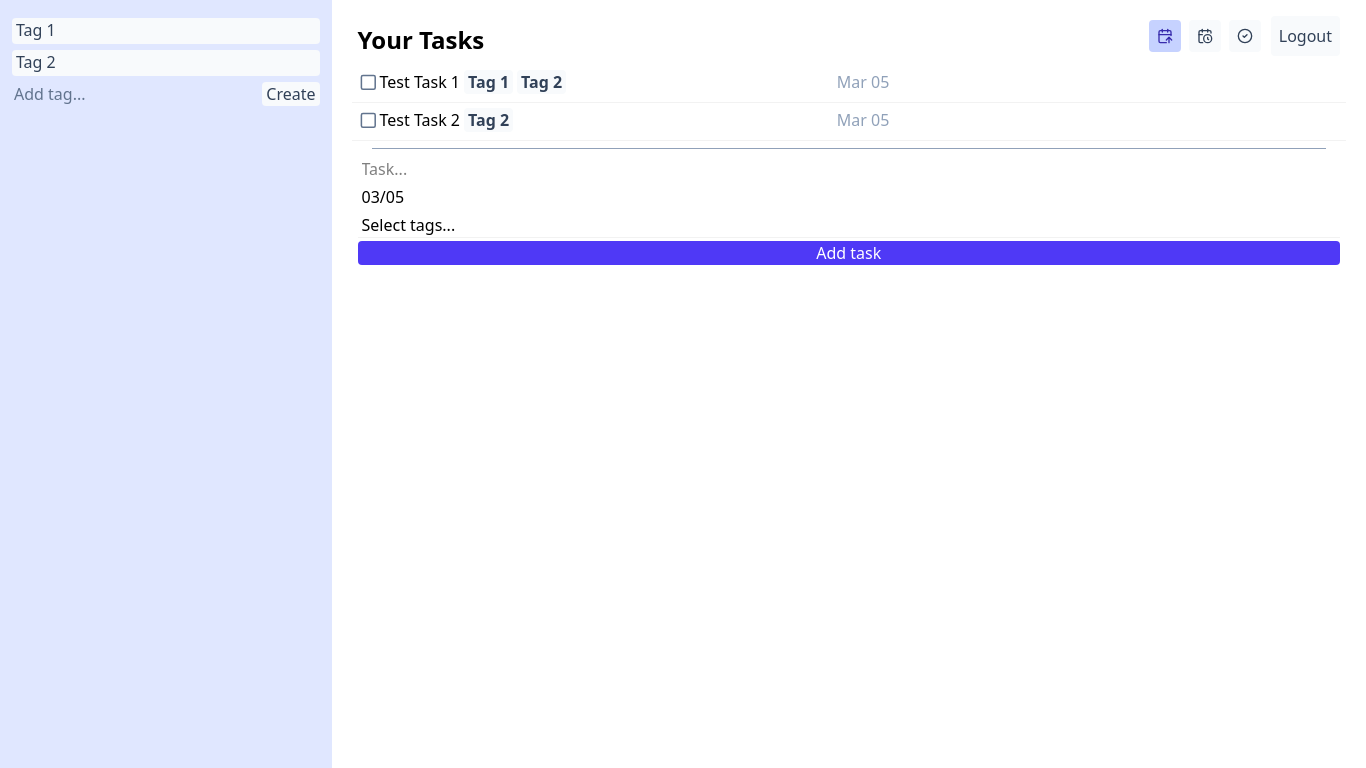
Test: Tag integration tests › Create a tag
Note: create a new tag
Type "New Tag" into the field with placeholder "Add tag..." at (131, 94), box [12, 82, 250, 106]
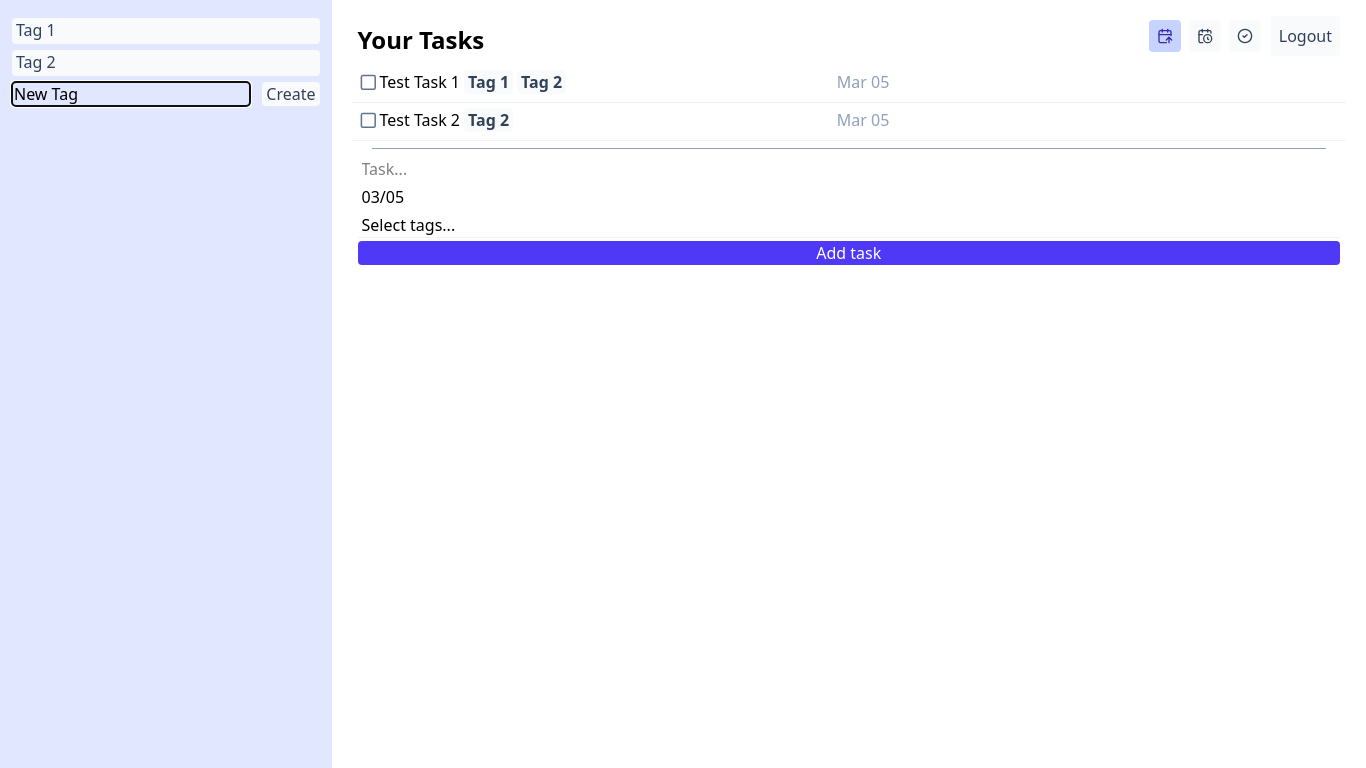
Click the button "Create" at (291, 94), box [262, 82, 320, 106]
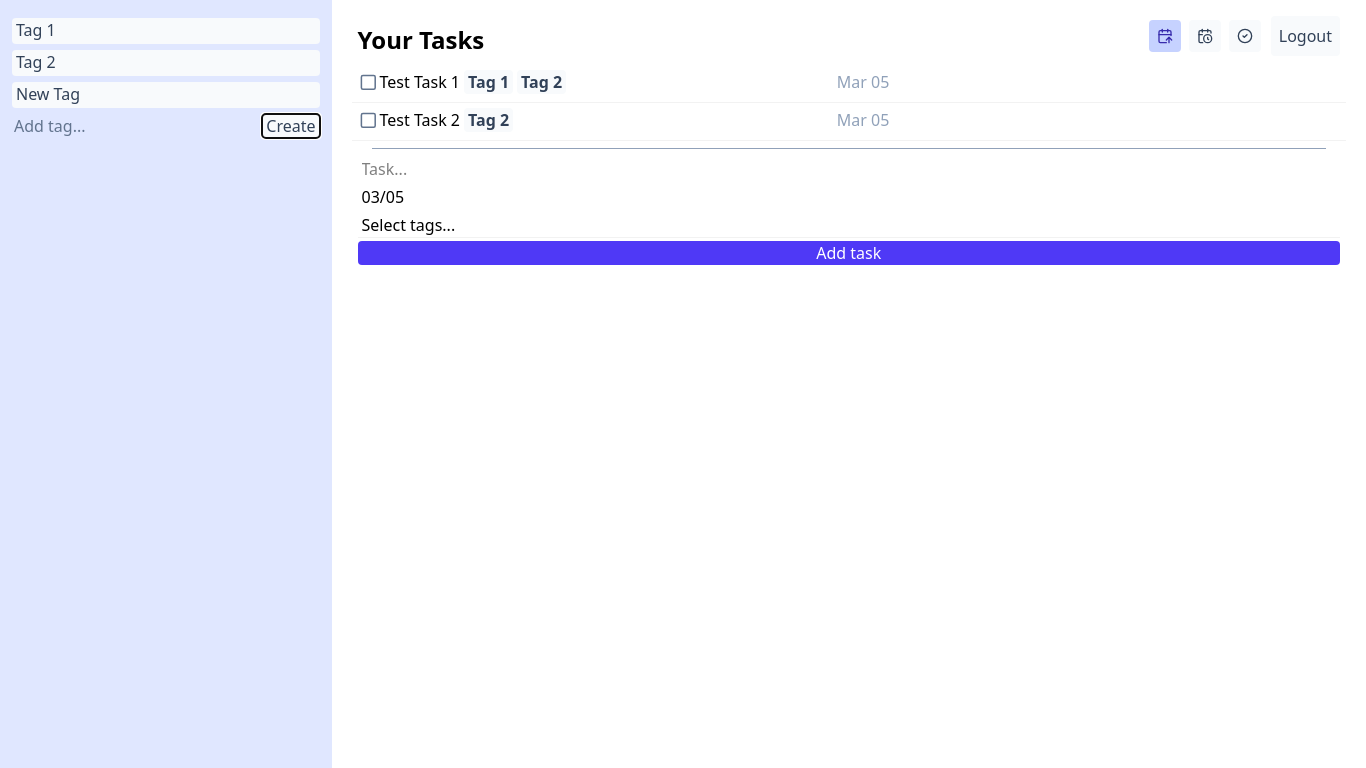
Result: the text "New Tag" is shown at [16, 83, 80, 105]
Click the button "Select tags..." at (410, 225), box [358, 213, 463, 237]
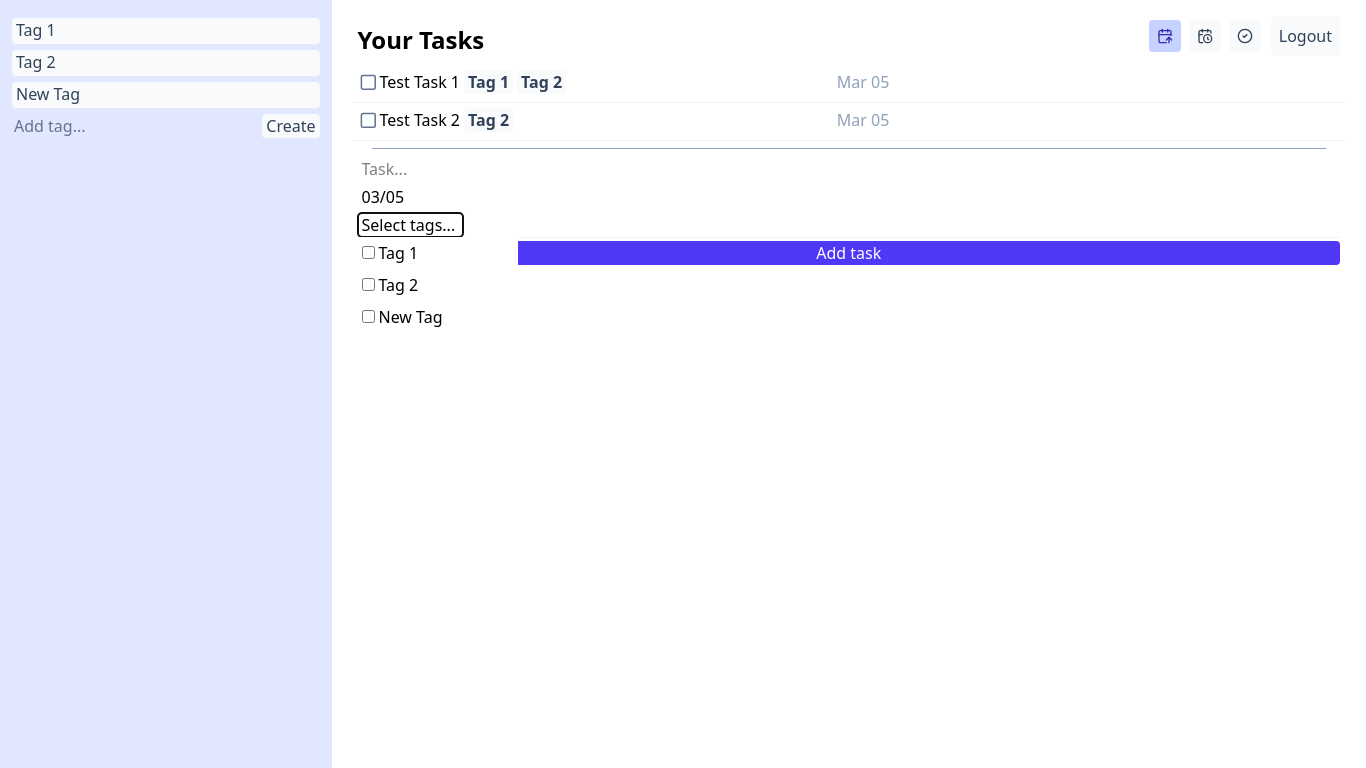
Result: the 2nd text "New Tag" is shown at [378, 306, 442, 328]
